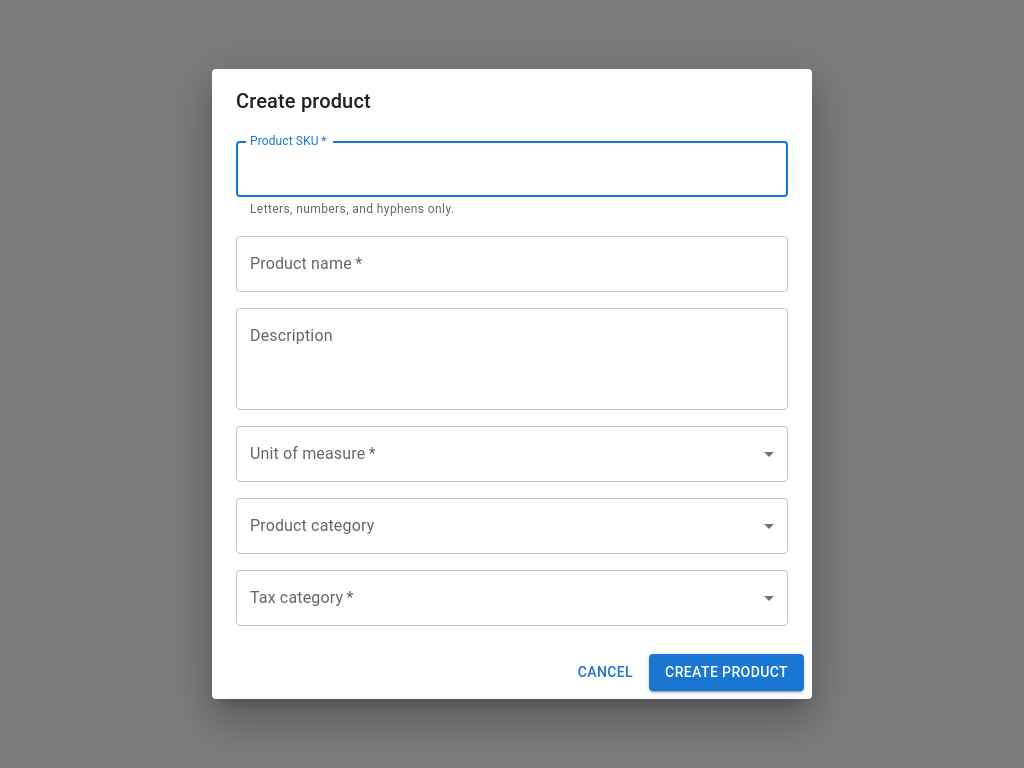
Test: CreateProductDialog › shows business-friendly reference-data choices
Click the dropdown named "Unit of measure" next to "Unit of measure" at [512, 454], box [236,426,788,482]
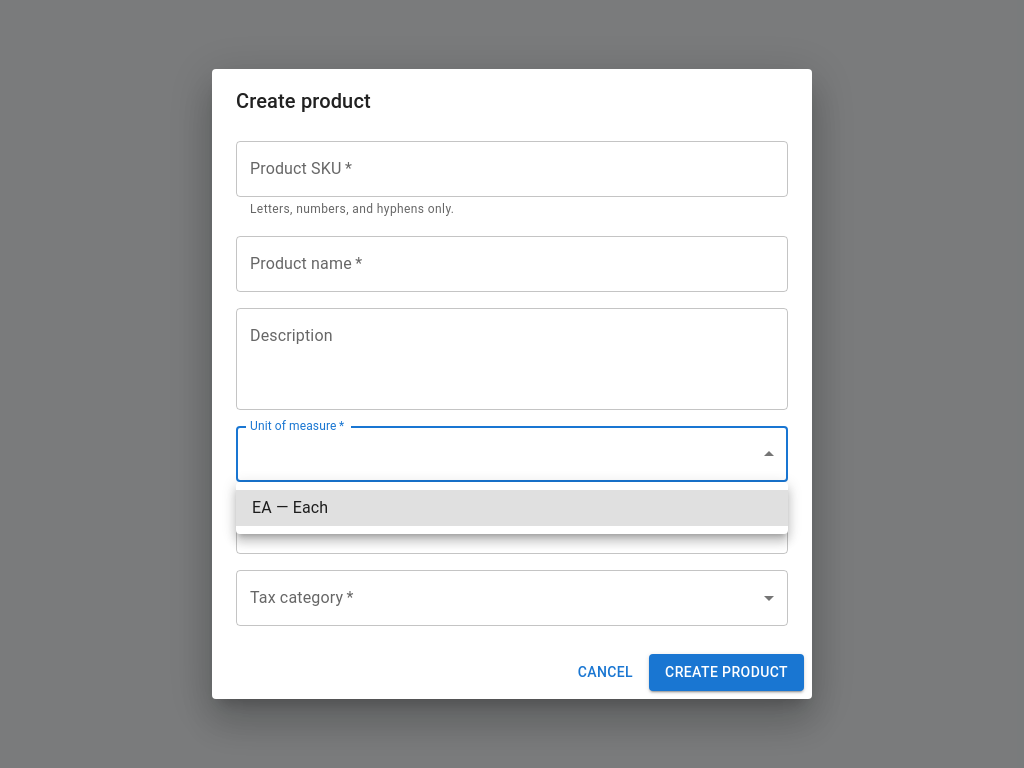
Result: the option "EA — Each" is shown at [236,490,788,526]
Press Escape
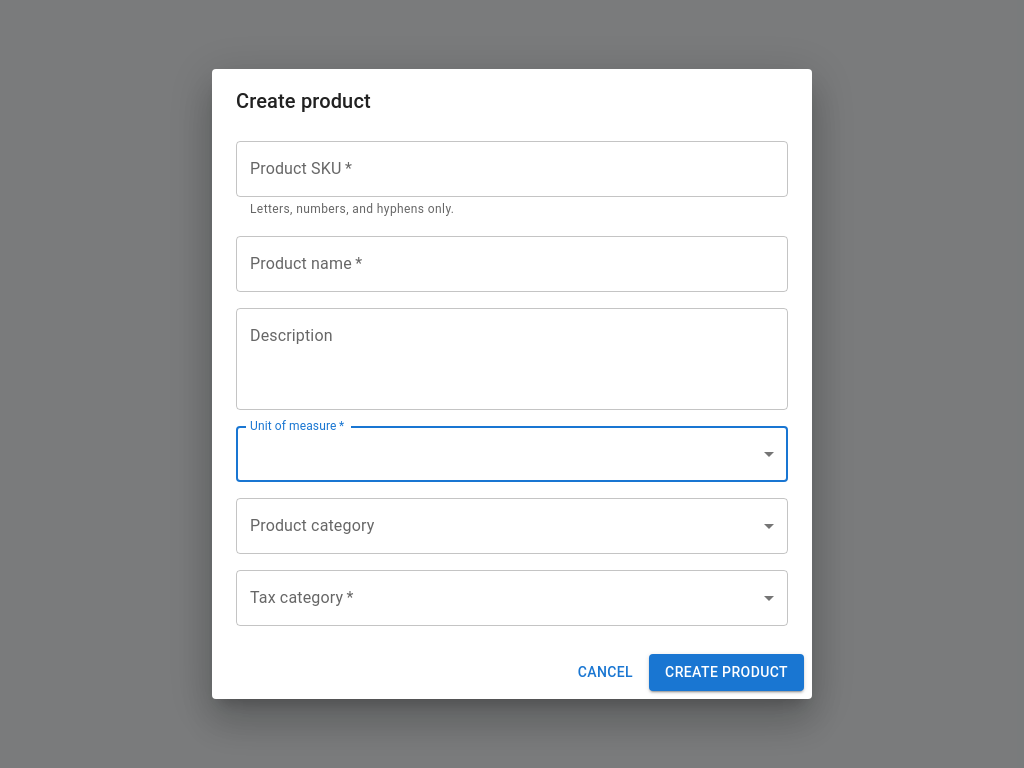
Click the dropdown named "Product category" next to "Product category" at [512, 526], box [236,498,788,554]
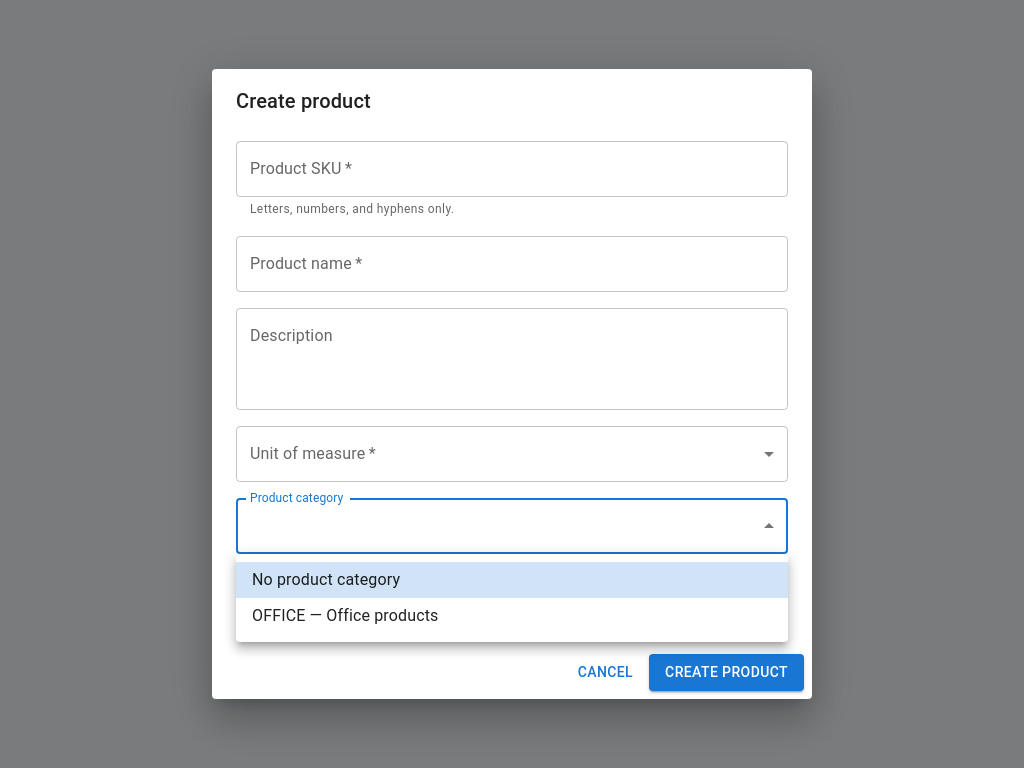
Result: the option "No product category" is shown at [236,562,788,598]
Result: the option "OFFICE — Office products" is shown at [252,606,438,625]
Press Escape
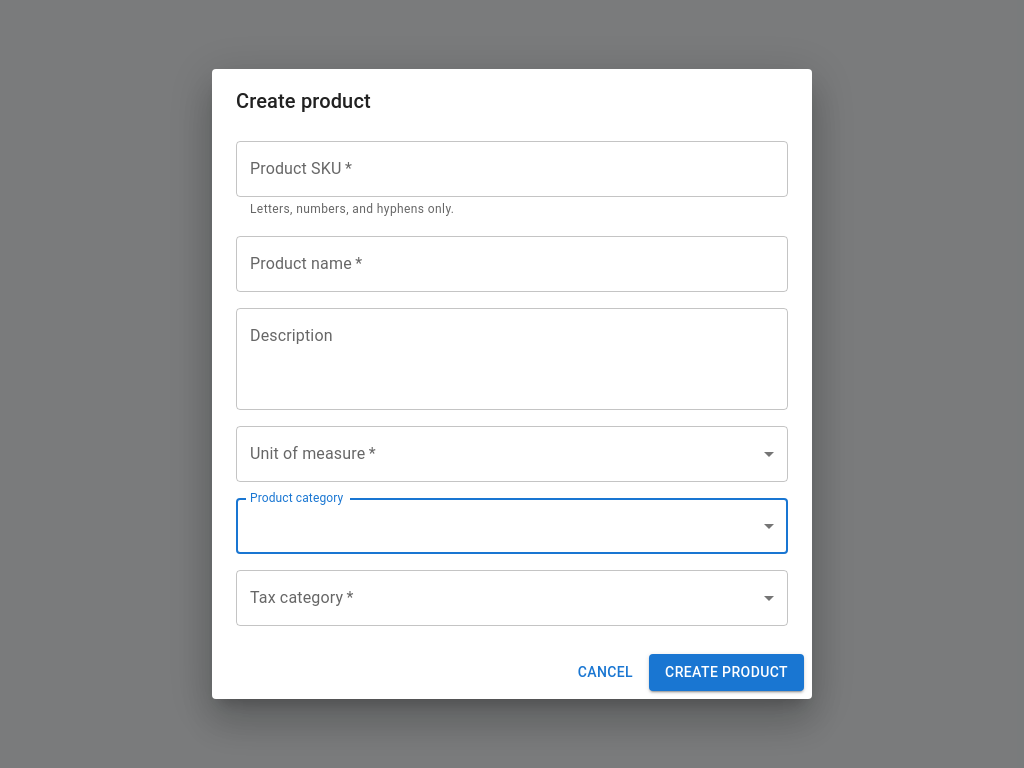
Click the dropdown named "Tax category" next to "Tax category" at [512, 598], box [236,570,788,626]
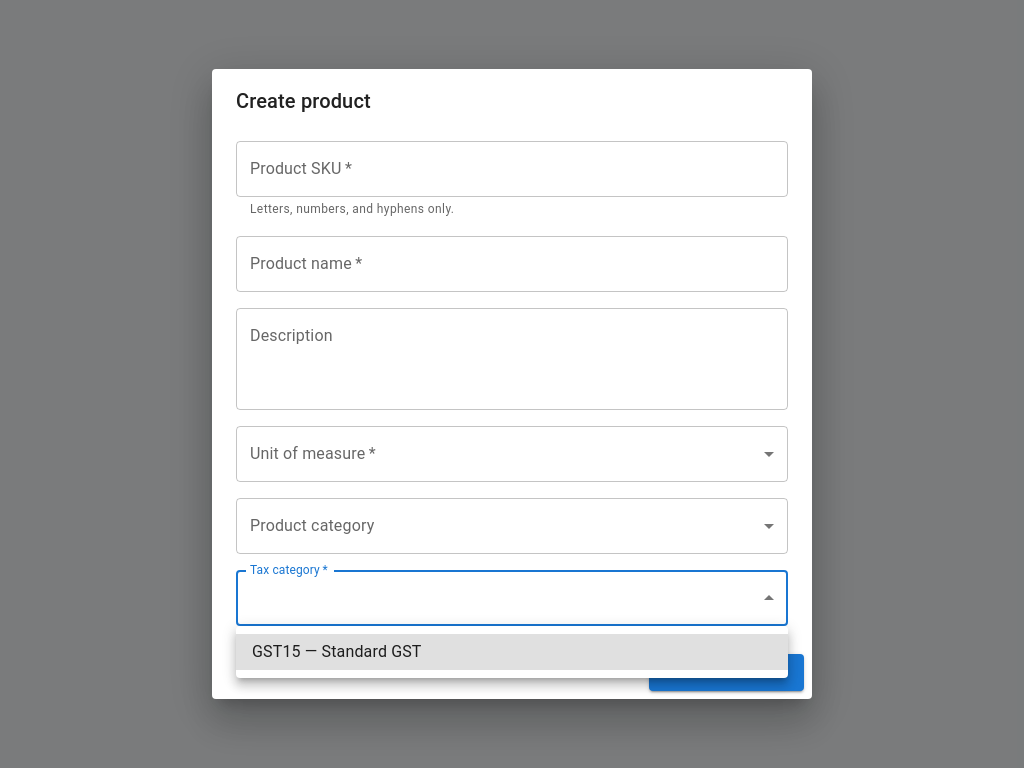
Result: the option "GST15 — Standard GST" is shown at [236,634,788,670]
